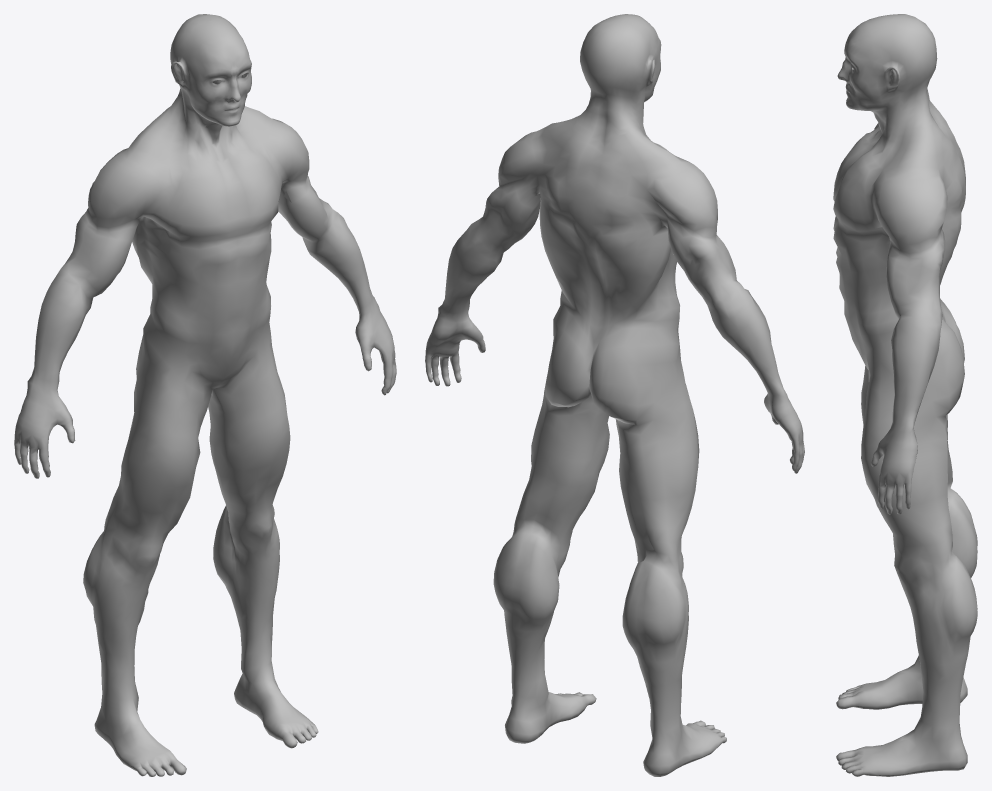
Rendered from human_body.glb.
3 views of the same model, side by side, from view 1: azimuth 30°, elevation 25°; view 2: azimuth 150°, elevation 25°; view 3: azimuth 270°, elevation 25° (orthographic).
Parts seen in each view (by area): view 1: Anatomy_low; view 2: Anatomy_low; view 3: Anatomy_low.
Boxes of the visible parts, left/top/right/bottom form: Anatomy_low: left=14, top=14, right=396, bottom=776; Anatomy_low: left=425, top=14, right=804, bottom=776; Anatomy_low: left=833, top=14, right=977, bottom=776.
Bounding box in the file's own units: 1.34 × 2.46 × 0.4476.
Materials: 1 (1 with a texture image).
